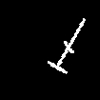double_crochet: (48, 18, 84, 72)
